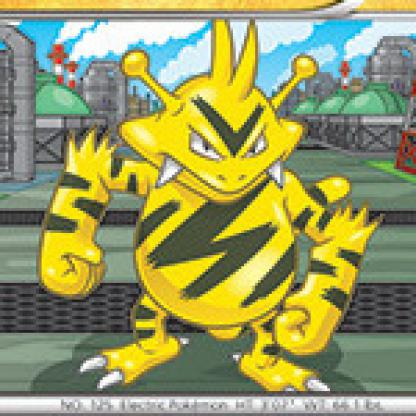Electabuzz: (26, 1, 416, 416)
